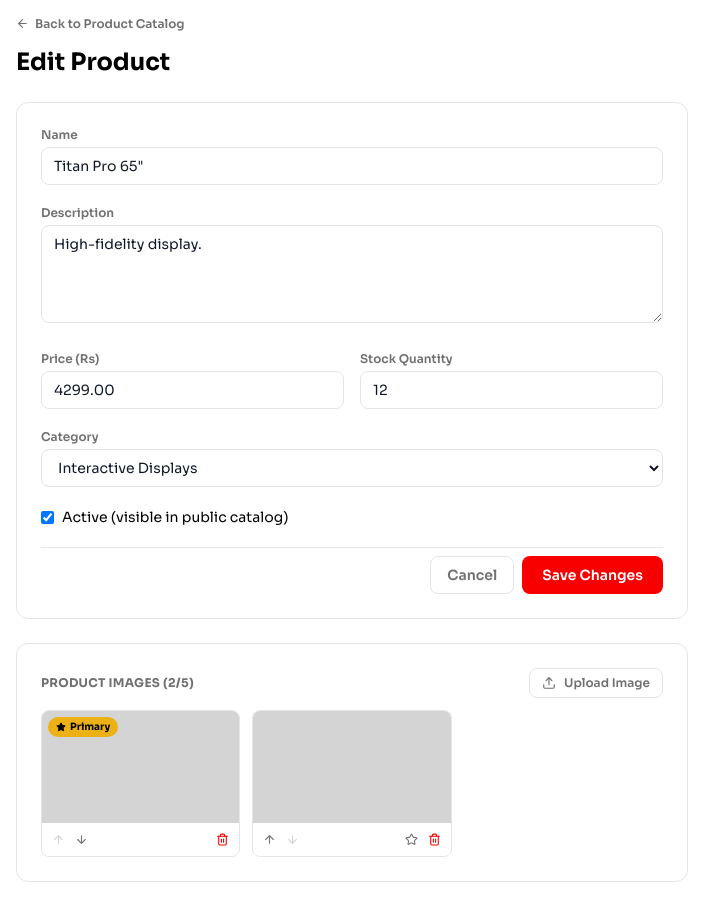
Test: Admin ProductForm › shows an error when setting an image as primary fails
The width and height of the screenshot is (705, 912).
Expected: the heading "Product Images (2/5)" is shown, 41,675 -> 194,691
Step 1. Click the button titled "Set as primary" → (411, 840), box 401,829 -> 422,850
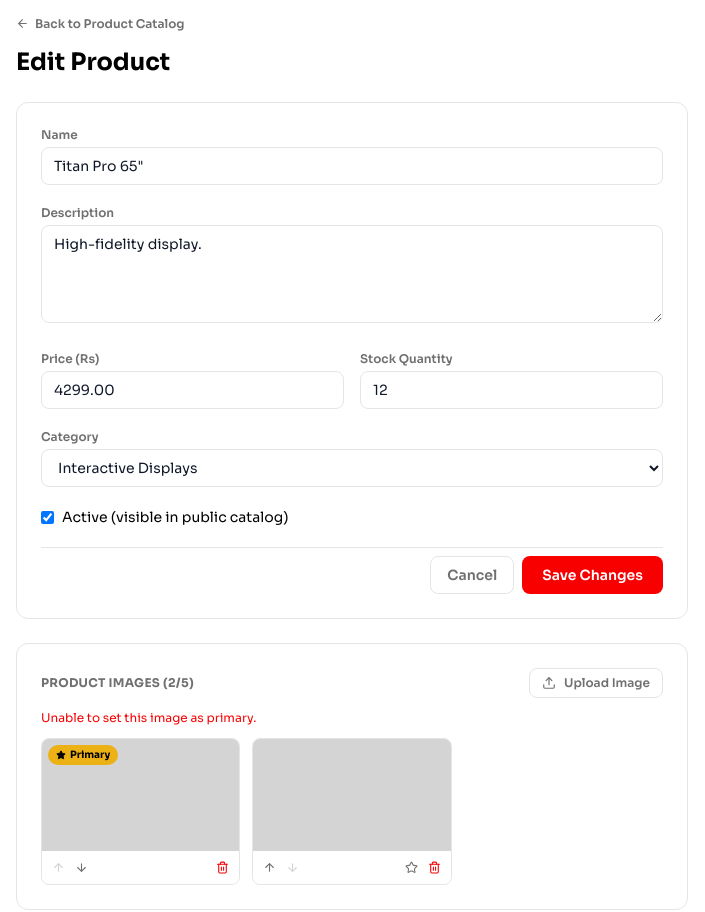
Expected: the text "Unable to set this image as primary." is shown, 41,710 -> 256,725
